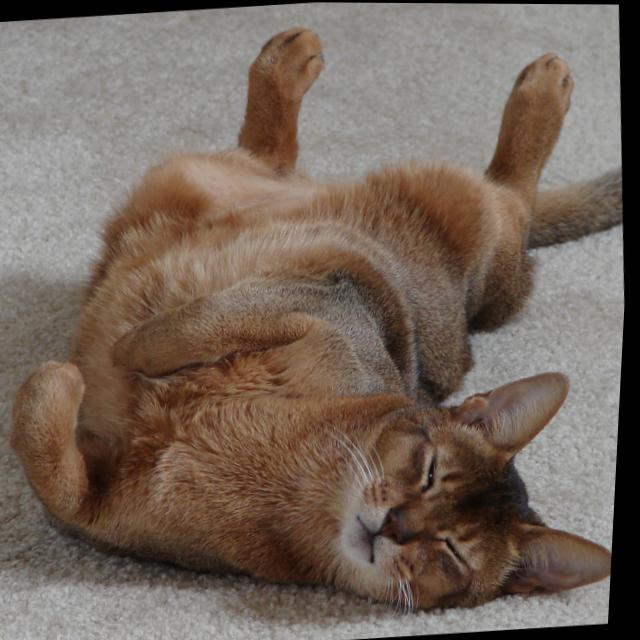animals: (373, 371, 625, 598)
